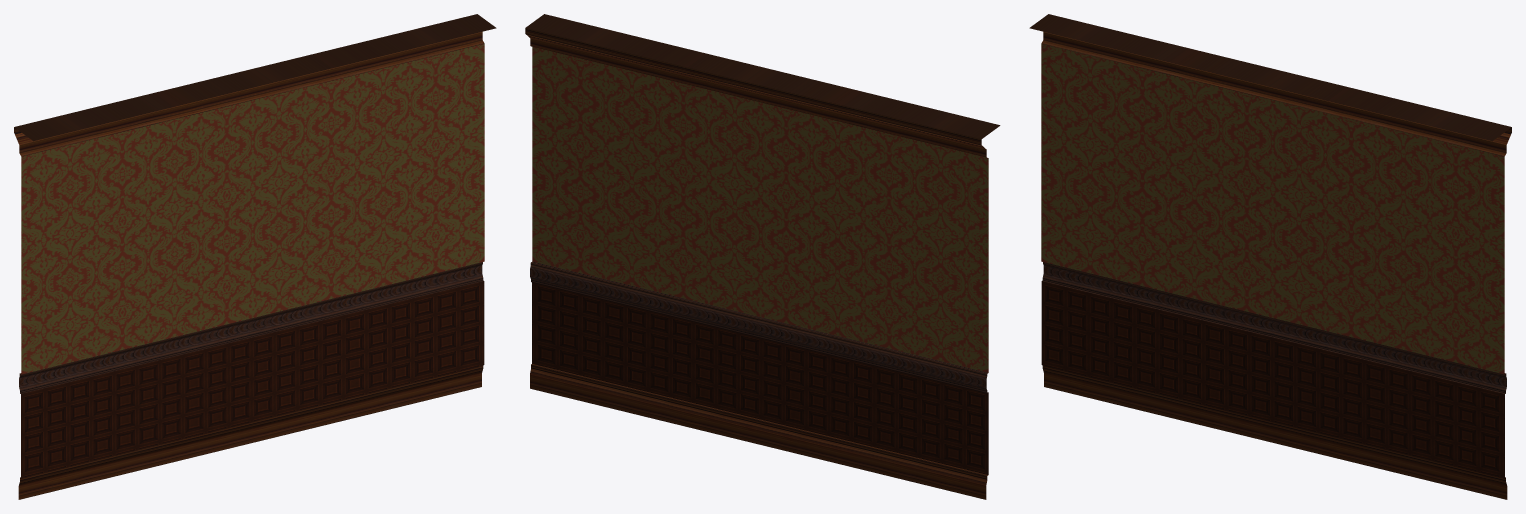
File: Wall1_Med.fbx
3 renders of one model, left to right at view 1: azimuth 30°, elevation 25°; view 2: azimuth 150°, elevation 25°; view 3: azimuth 330°, elevation 25°, orthographic.
Parts seen in each view (by area): view 1: WallSection1Med; view 2: WallSection1Med; view 3: WallSection1Med.
Part boxes in pixels (<box>): WallSection1Med: <box>14,14,496,499</box>; WallSection1Med: <box>525,14,1000,499</box>; WallSection1Med: <box>1029,14,1511,499</box>.
Bounding box in the file's own units: 369 × 281 × 26.8.
